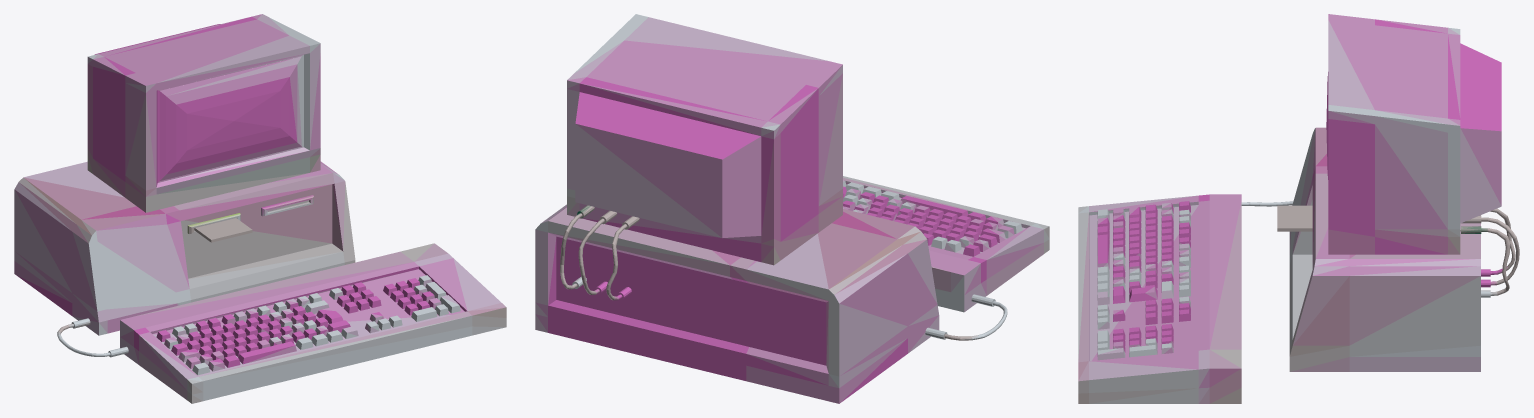
3 views of the same model, side by side, from view 1: azimuth 30°, elevation 25°; view 2: azimuth 150°, elevation 25°; view 3: azimuth 270°, elevation 25° (orthographic). The views are drawn at different scales.
Visible parts, largest first — view 1: world; view 2: world; view 3: world.
Boxes of the visible parts, x1,y1,x2,y2 form: world: [14, 14, 506, 403]; world: [535, 14, 1049, 403]; world: [1078, 14, 1519, 403].
Size of the model in its own units: 1 by 0.5985 by 0.9526.
